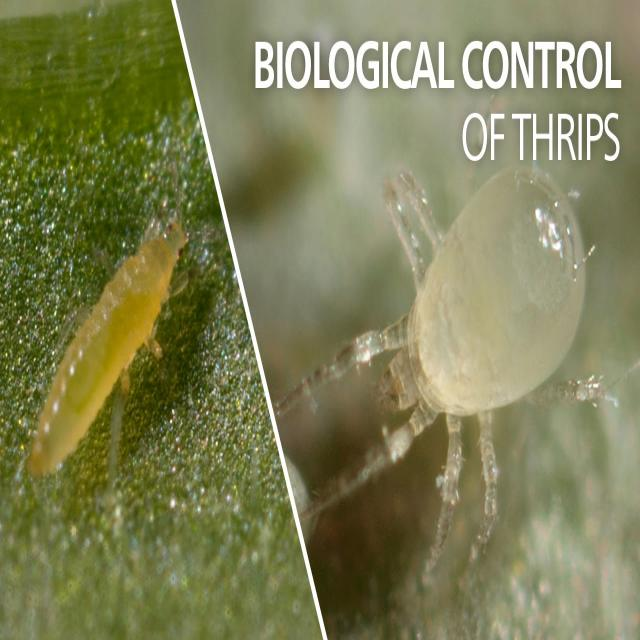Thrip-Larva-: (16, 184, 208, 507)
